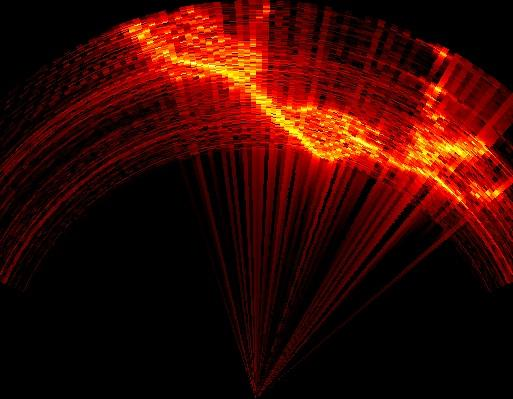shipwreck: (130, 8, 483, 171)
